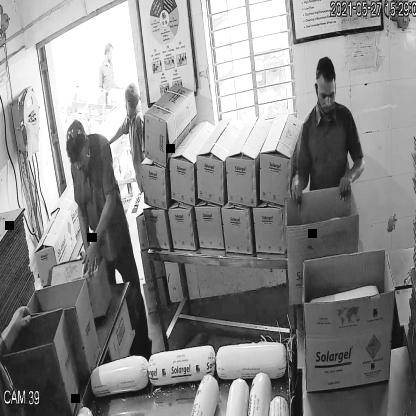no_goggles: (312, 82, 339, 107)
